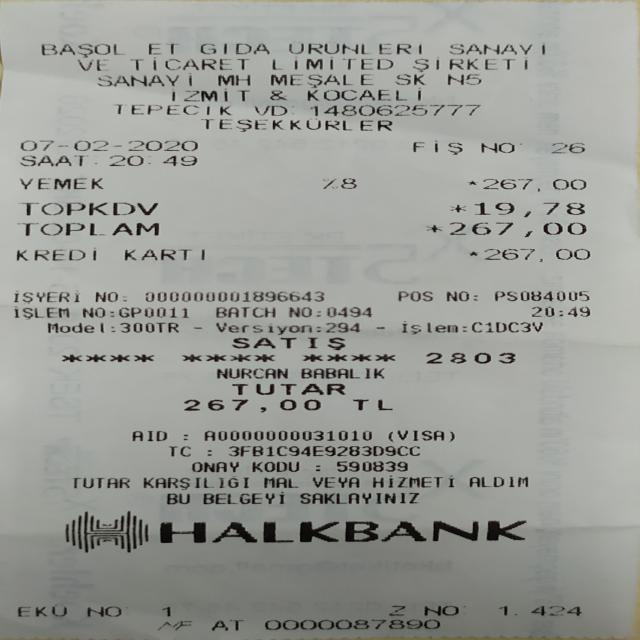text: (159, 518, 524, 544), (201, 116, 391, 133), (228, 443, 418, 457), (205, 427, 371, 443), (21, 137, 197, 152), (310, 102, 480, 117), (145, 289, 323, 303), (289, 40, 421, 58), (183, 397, 320, 413), (265, 618, 440, 630), (25, 221, 158, 236), (25, 200, 157, 215), (272, 56, 392, 72), (130, 56, 249, 72), (300, 489, 418, 505), (413, 56, 527, 72), (307, 87, 420, 103), (117, 101, 230, 117), (450, 40, 546, 58), (475, 201, 583, 217), (143, 474, 248, 490), (270, 72, 372, 88), (232, 336, 346, 350), (232, 382, 345, 396), (181, 349, 274, 366), (302, 349, 395, 366), (98, 72, 192, 88), (216, 319, 310, 335), (427, 349, 515, 366), (123, 245, 204, 263), (41, 40, 119, 58), (109, 152, 196, 168), (15, 246, 96, 263), (372, 473, 454, 489), (202, 490, 284, 506), (495, 289, 588, 303), (200, 40, 269, 58), (20, 176, 102, 190), (20, 152, 91, 168), (472, 319, 542, 335), (44, 319, 112, 335), (302, 366, 384, 379), (336, 459, 407, 473), (118, 305, 188, 319), (73, 474, 129, 491), (216, 304, 274, 320), (469, 472, 527, 488), (217, 366, 287, 379), (484, 245, 534, 263), (124, 319, 178, 335), (413, 138, 462, 155), (531, 304, 589, 318), (484, 176, 534, 192), (312, 473, 358, 490), (13, 305, 68, 319), (398, 427, 443, 443), (191, 459, 238, 474), (17, 604, 66, 618), (352, 396, 392, 413), (252, 459, 298, 473), (532, 604, 580, 617), (327, 305, 371, 319), (481, 138, 515, 156), (263, 473, 297, 490), (552, 139, 584, 157), (132, 427, 166, 443), (217, 72, 250, 88), (553, 176, 585, 192), (395, 71, 424, 88), (397, 289, 432, 303), (149, 40, 176, 58), (255, 102, 287, 117), (424, 603, 456, 617), (87, 604, 118, 618), (211, 618, 242, 632), (77, 56, 104, 72), (167, 490, 190, 506), (168, 443, 190, 458), (95, 289, 116, 304), (446, 289, 468, 303), (82, 305, 104, 319), (288, 305, 310, 319), (270, 87, 286, 103), (499, 603, 516, 617), (450, 201, 464, 217), (390, 603, 404, 616), (108, 319, 119, 335), (469, 244, 478, 263), (194, 319, 202, 335), (318, 319, 326, 335), (376, 319, 384, 335), (161, 604, 170, 618), (533, 177, 541, 192), (90, 152, 97, 168), (469, 176, 476, 192), (316, 305, 322, 319), (184, 427, 188, 443), (388, 427, 392, 443), (315, 459, 319, 473), (539, 245, 542, 263), (463, 319, 466, 335), (451, 427, 454, 443), (207, 443, 210, 458), (474, 289, 476, 303), (110, 305, 112, 319)
